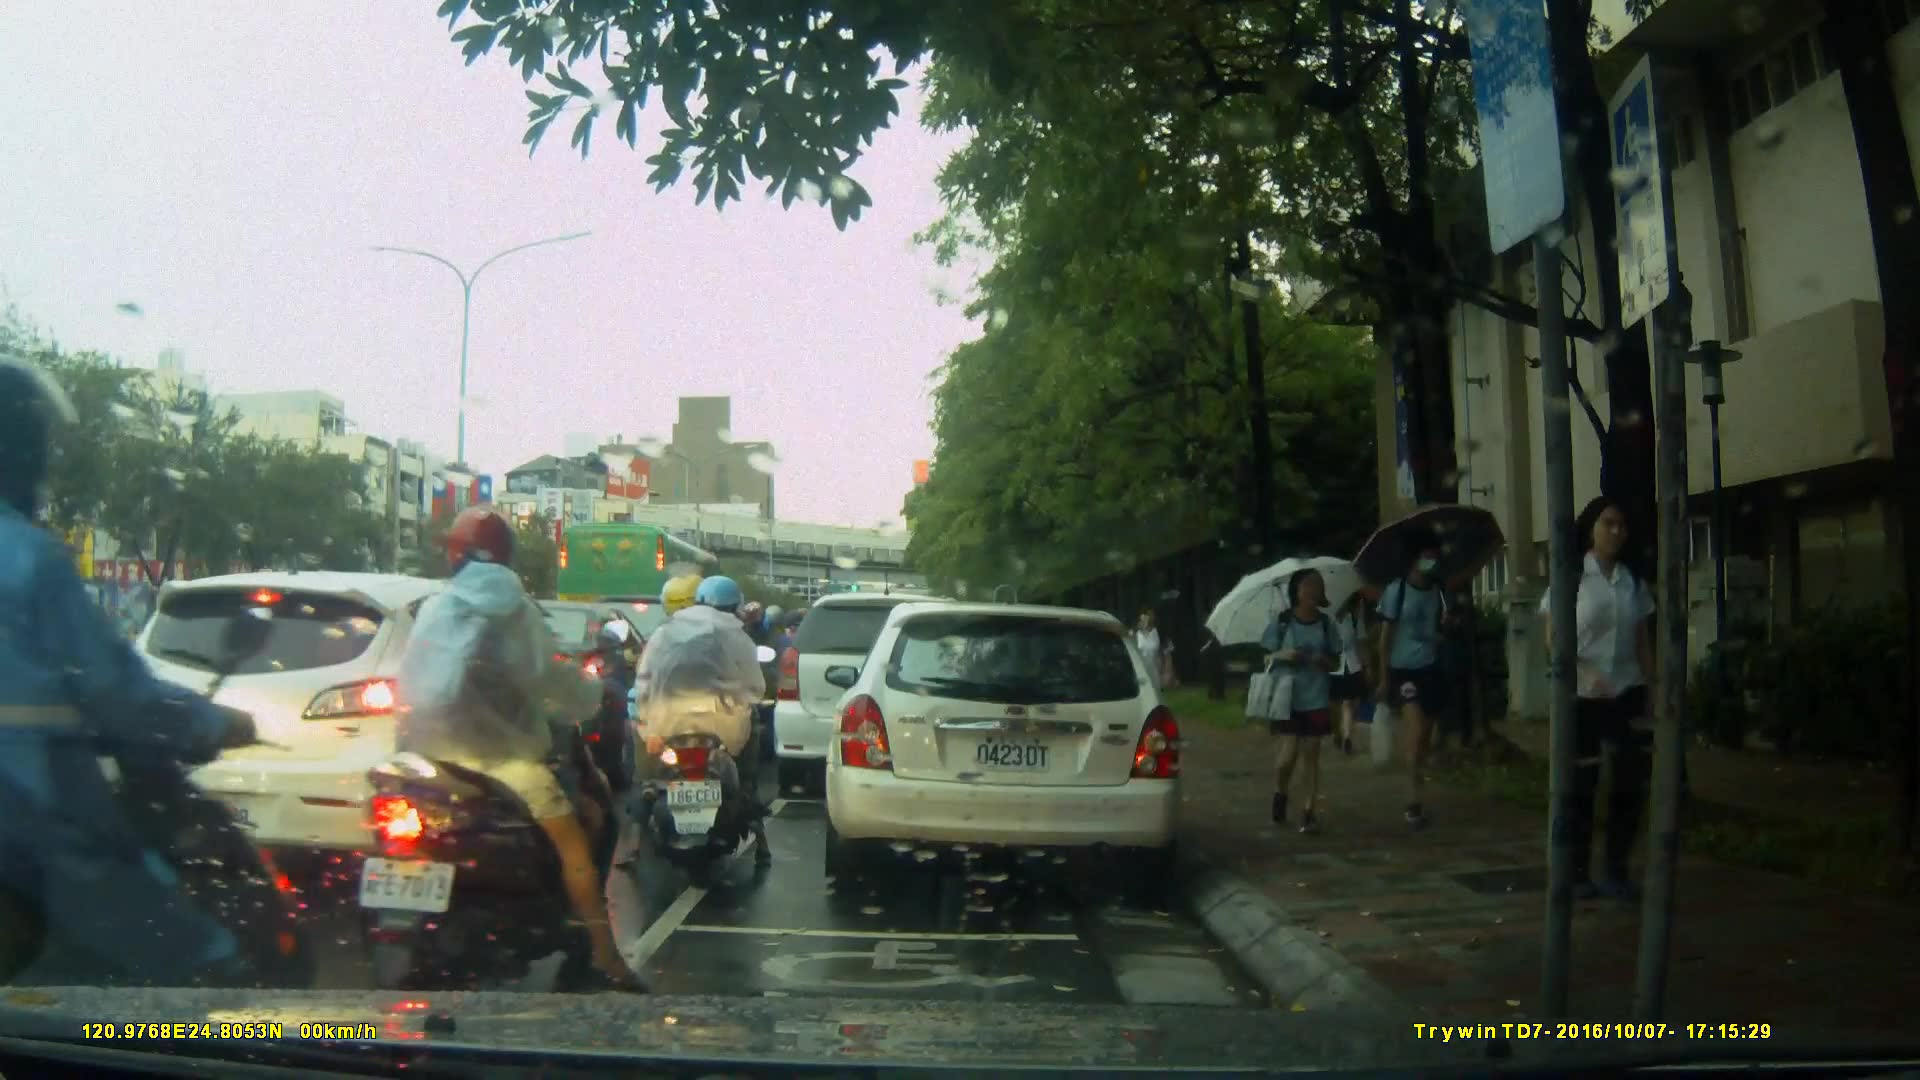pedestrian: (1537, 491, 1667, 907), (1353, 535, 1477, 837), (1250, 561, 1358, 849), (1128, 599, 1174, 752)
rider: (1, 366, 336, 1070), (355, 505, 649, 996), (615, 577, 777, 880), (661, 588, 762, 809)
vehicle: (96, 569, 591, 883), (822, 604, 1186, 883), (774, 595, 995, 802), (556, 520, 740, 665), (20, 576, 199, 697)
